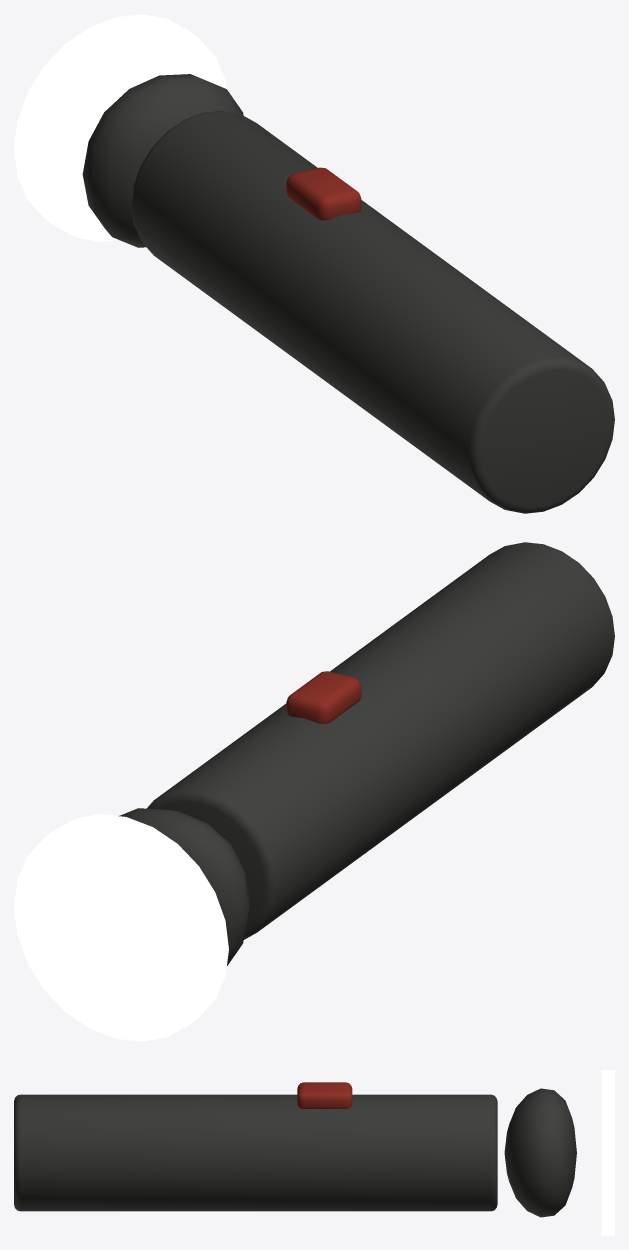
Rendered from flashlight.glb.
3 views of the same model, one above another, from view 1: azimuth 30°, elevation 25°; view 2: azimuth 150°, elevation 25°; view 3: azimuth 270°, elevation 25° (orthographic). The views are drawn at different scales.
Visible parts, largest first — view 1: body.003, lens.002, switch; view 2: body.003, lens.002, switch; view 3: body.003, lens.002, switch.
Part boxes in pixels (left/top/right/bottom): body.003: left=82, top=74, right=614, bottom=513; lens.002: left=14, top=14, right=226, bottom=241; switch: left=286, top=167, right=361, bottom=220; body.003: left=119, top=542, right=614, bottom=965; lens.002: left=14, top=814, right=228, bottom=1041; switch: left=286, top=671, right=361, bottom=723; body.003: left=14, top=1088, right=576, bottom=1217; lens.002: left=601, top=1070, right=614, bottom=1235; switch: left=297, top=1082, right=352, bottom=1108.
Size of the model in its own units: 0.048 by 0.048 by 0.174.
